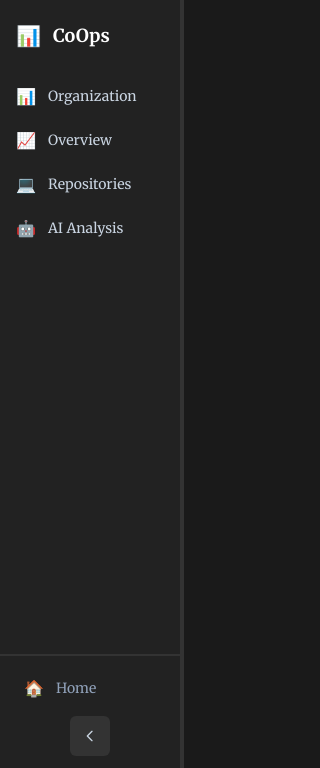
Test: Sidebar Component › Toggle Sidebar › oculta textos quando sidebar está colapsado
Expected: the heading "CoOps" is shown, [53,25,110,47]
Expected: the text "Overview" is shown, [48,130,112,150]
What coordinates should you click on to do the following:
click the button named "Collapse sidebar"
I would click on:
 (90, 736)
Its box is [70,716,110,756].
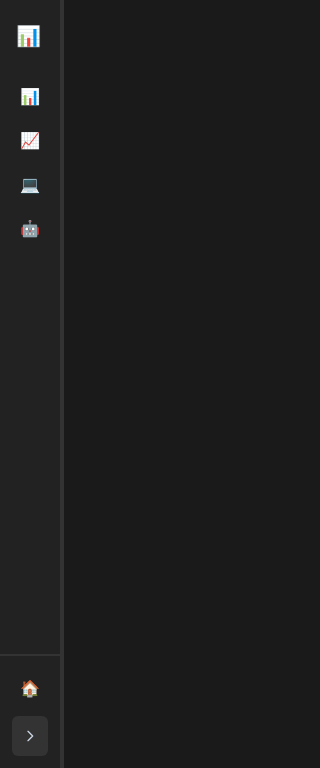
Result: the heading "CoOps" is gone
Result: the text "Overview" is gone
Result: the text "Repositories" is gone
